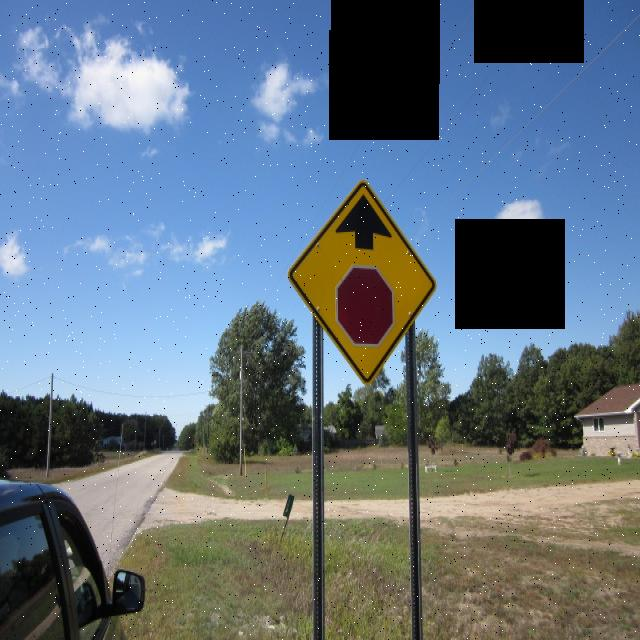stop: (334, 263, 396, 353)
warning: (290, 174, 437, 386)
